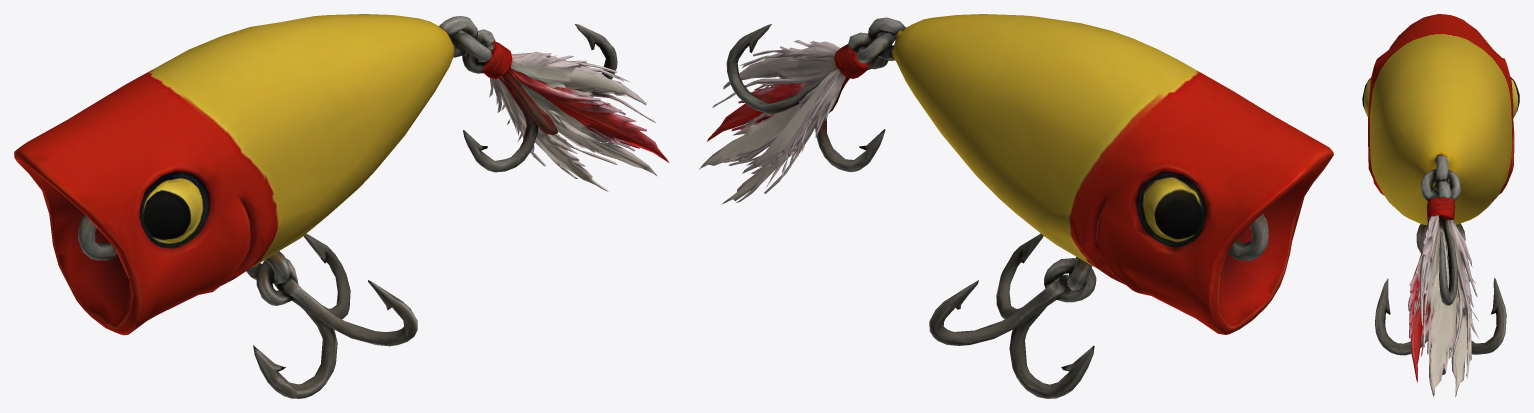
The model's file is gear-popper.glb.
3 views of the same model, side by side, from view 1: azimuth 30°, elevation 25°; view 2: azimuth 150°, elevation 25°; view 3: azimuth 270°, elevation 25° (orthographic). The views are drawn at different scales.
Parts seen in each view (by area): view 1: tripo_node_2a4301c1-2ff0-46ab-89ab-a2579214f55d; view 2: tripo_node_2a4301c1-2ff0-46ab-89ab-a2579214f55d; view 3: tripo_node_2a4301c1-2ff0-46ab-89ab-a2579214f55d.
Part boxes in pixels (left/top/right/bottom): tripo_node_2a4301c1-2ff0-46ab-89ab-a2579214f55d: left=14, top=14, right=669, bottom=398; tripo_node_2a4301c1-2ff0-46ab-89ab-a2579214f55d: left=698, top=14, right=1333, bottom=398; tripo_node_2a4301c1-2ff0-46ab-89ab-a2579214f55d: left=1362, top=14, right=1519, bottom=398.
Bounding box in the file's own units: 0.9983 × 0.5672 × 0.2675.
Materials: 1 (1 with a texture image).
